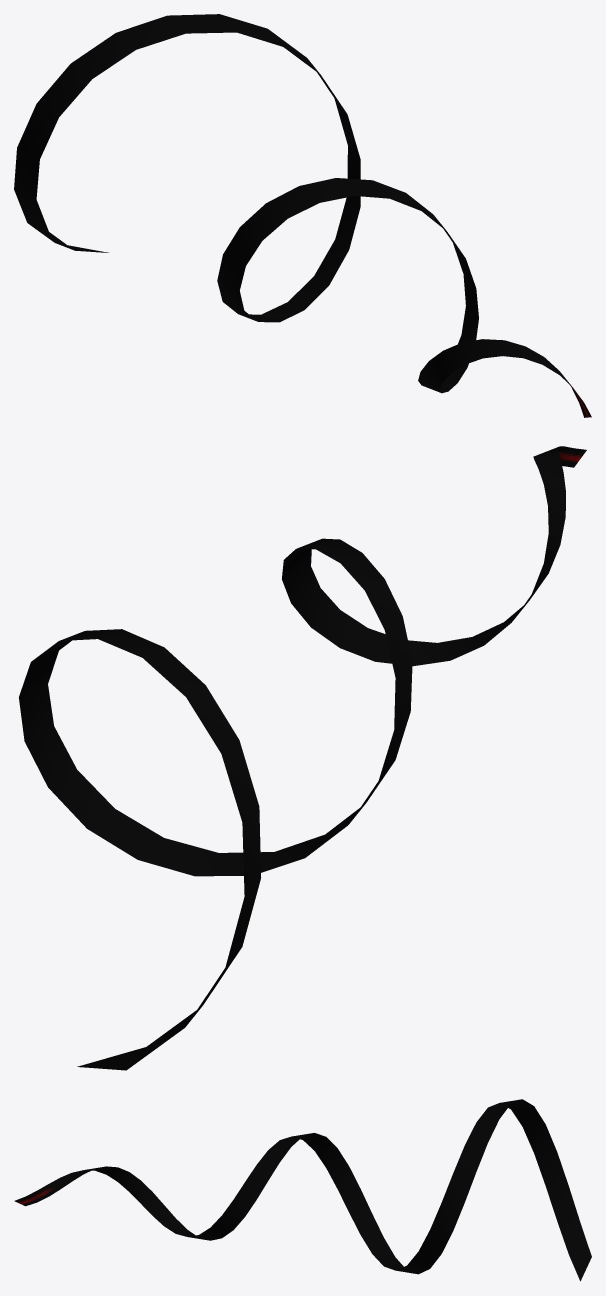
Rendered from trails_02.FBX.
3 views of the same model, one above another, from view 1: azimuth 30°, elevation 25°; view 2: azimuth 150°, elevation 25°; view 3: azimuth 270°, elevation 25° (orthographic). The views are drawn at different scales.
Visible parts, largest first — view 1: trails_02; view 2: trails_02; view 3: trails_02.
Part boxes in pixels (x1=…): trails_02: x1=14, y1=14, x2=591, y2=417; trails_02: x1=19, y1=446, x2=586, y2=1070; trails_02: x1=14, y1=1099, x2=591, y2=1281.
Bounding box in the file's own units: 1.83 × 1.93 × 5.65.
